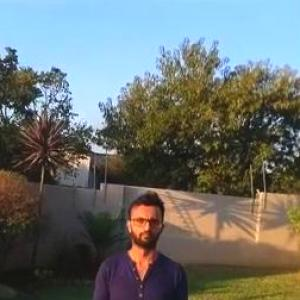follow: (95, 182, 206, 299)
